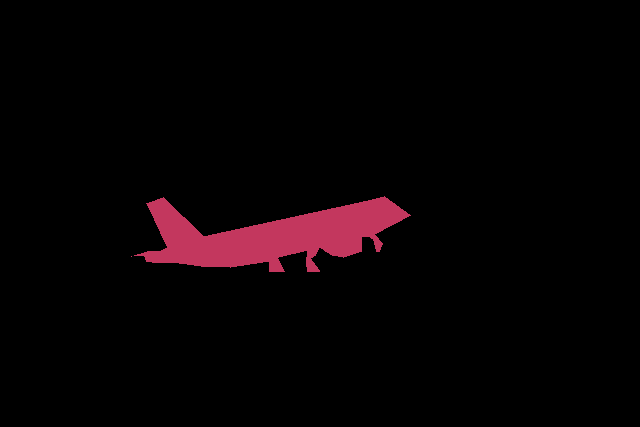Airplane: (131, 196, 411, 271)
